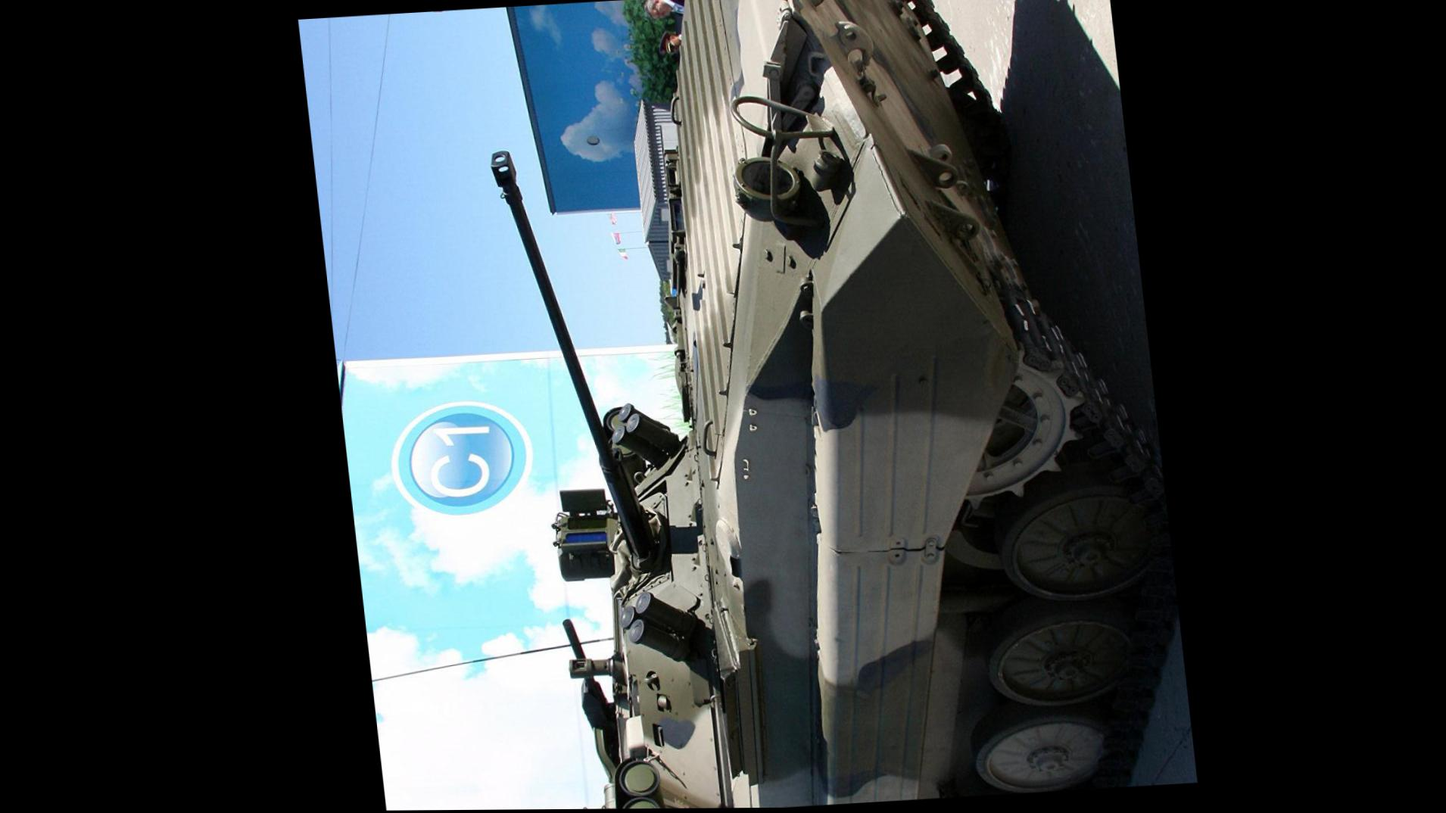tank: (389, 0, 1198, 810)
